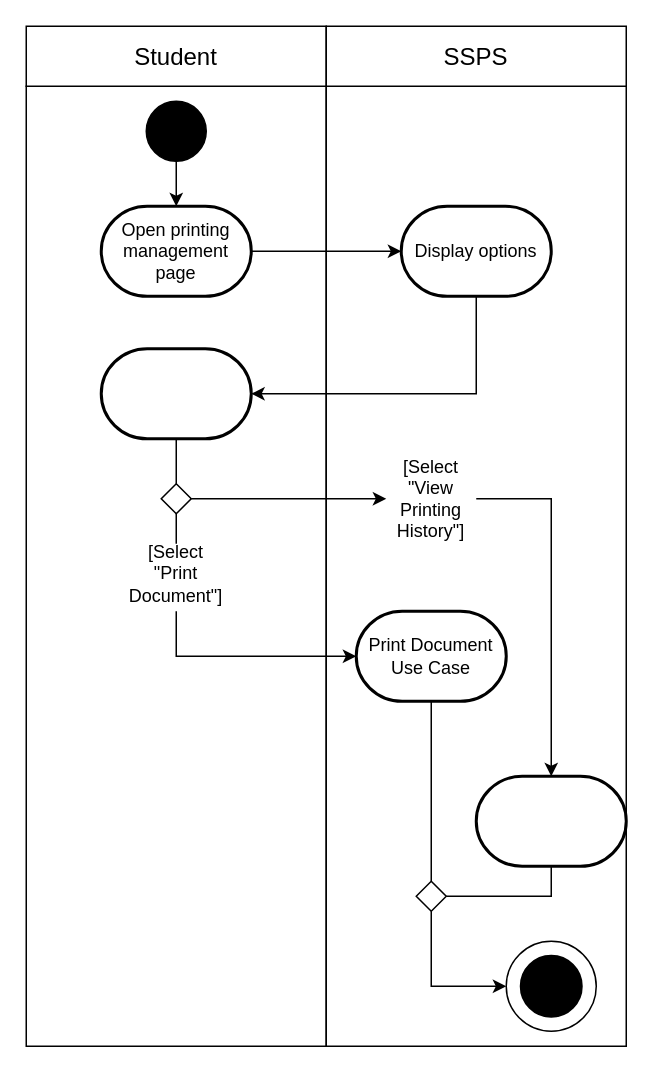
The diagram is 654 pixels wide and 1073 high, and some of its shapes have lost their labels. Here are the shapes that lost their labels. From the top down, the centre of each, then its label:
At pixel 175 393: "Select Option".
At pixel 550 820: "Navigate to View Printing History Page".
